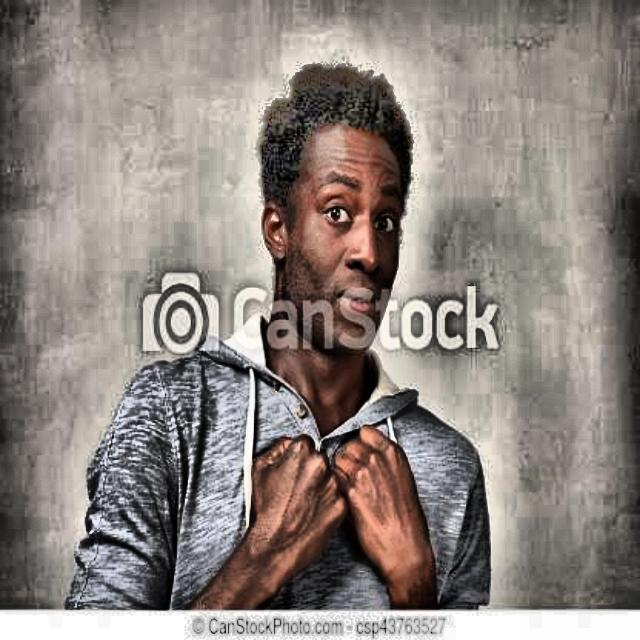neutral: (254, 64, 423, 357)
